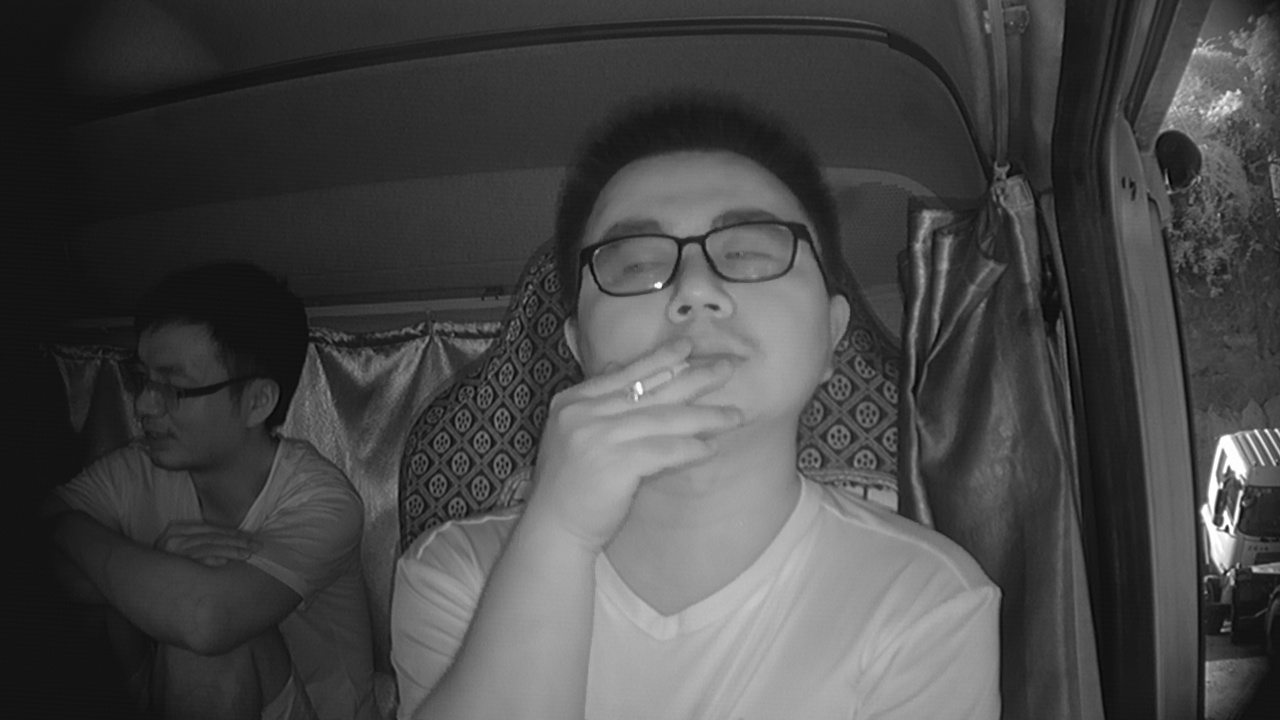hand: (556, 345, 723, 523)
